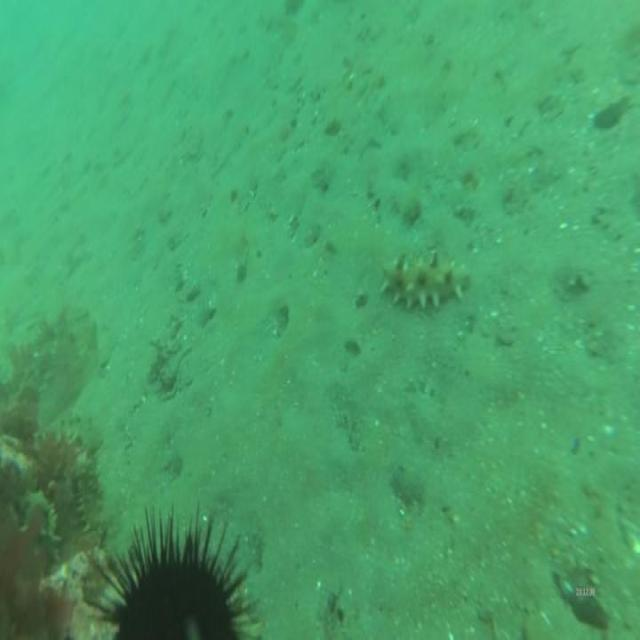echinus: (85, 504, 263, 640)
holothurian: (380, 252, 474, 314), (23, 488, 66, 570), (71, 449, 107, 531)
